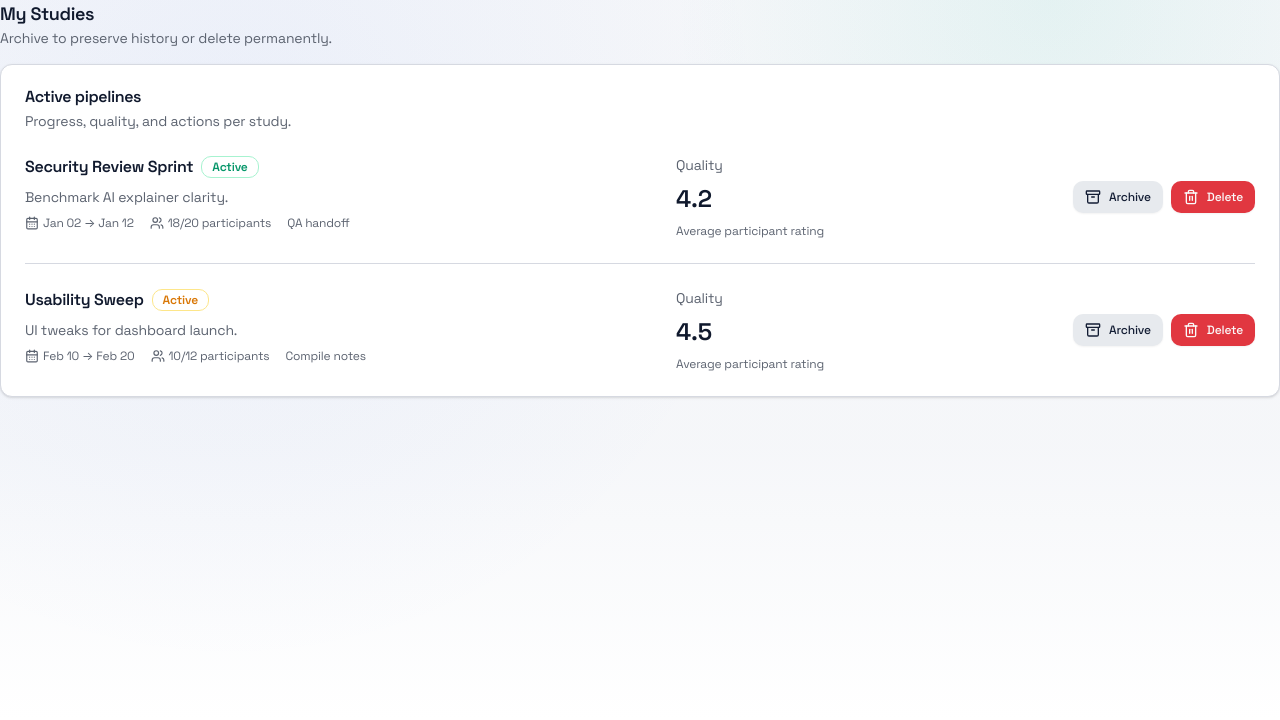
Test: Study lifecycle management integration › permanently deletes a study after confirmation
The width and height of the screenshot is (1280, 720).
Click the button "Delete" in the row of "4.2": point(1213, 197) [1171, 181, 1255, 213]
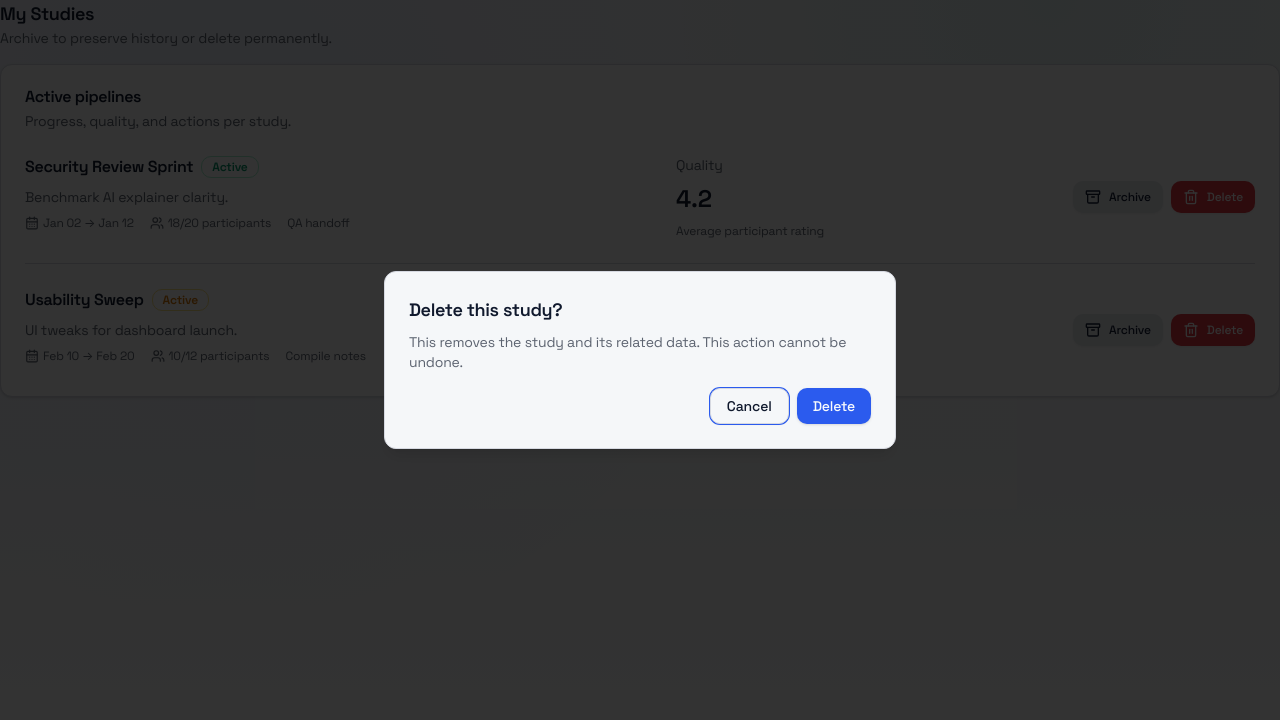
Click the button "Delete": point(834, 406) [797, 388, 871, 424]
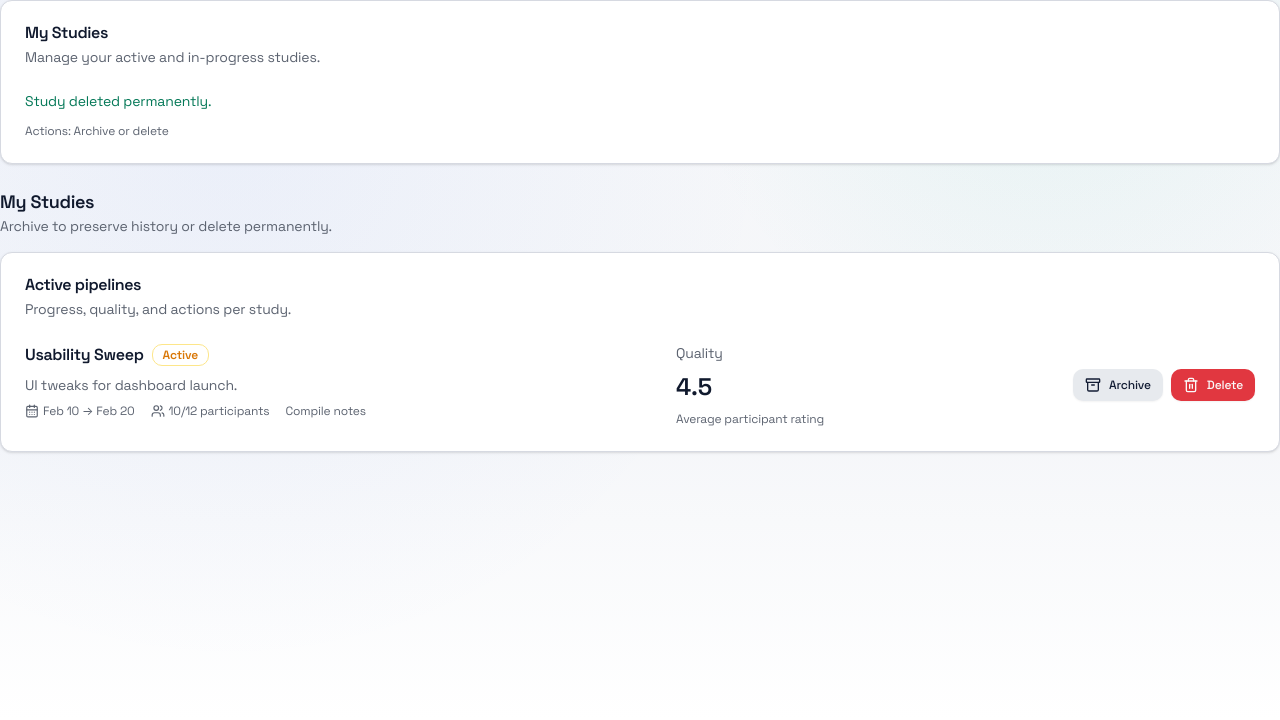
Check: the heading "Security Review Sprint" is gone
Check: the text "Study deleted permanently." is shown, box [25, 92, 211, 110]
